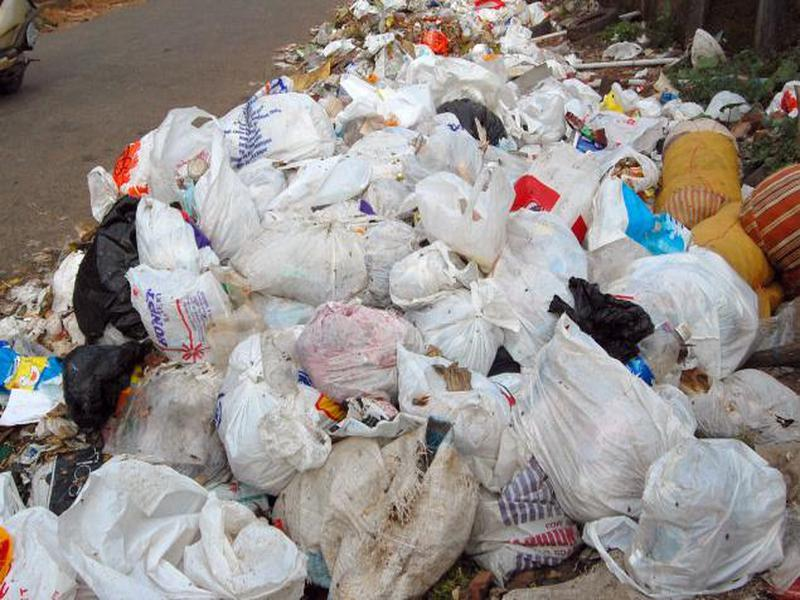plastic: (50, 440, 316, 600), (514, 319, 703, 524), (580, 431, 793, 600), (211, 333, 341, 496), (617, 244, 767, 381), (122, 195, 234, 360), (515, 129, 657, 237), (59, 189, 160, 340), (293, 294, 432, 400), (391, 342, 516, 457), (234, 209, 377, 305), (414, 158, 524, 269), (693, 361, 800, 468), (112, 101, 230, 198), (208, 90, 345, 172), (57, 341, 166, 437), (545, 274, 655, 365), (331, 68, 441, 134), (389, 238, 488, 311), (511, 74, 574, 145)
